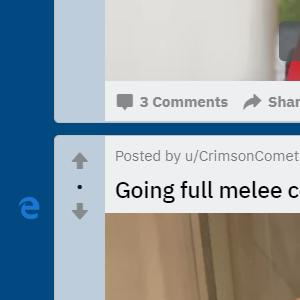edge: (18, 196, 40, 220)
